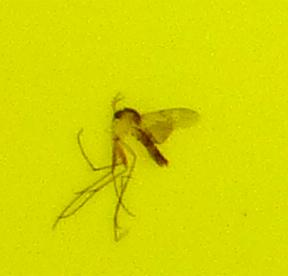Nematocera: (100, 100, 188, 176)
